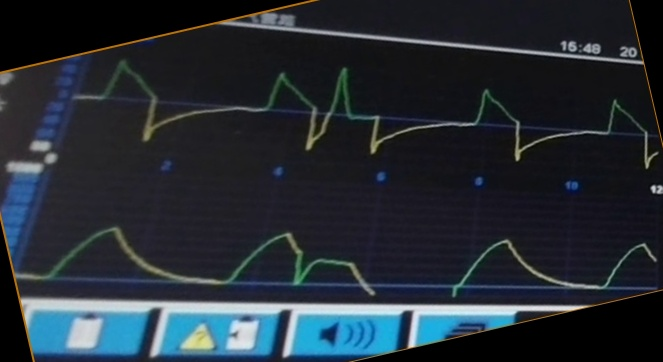Double_Triggering Flow: (83, 57, 593, 161)
Double_Triggering Volume: (46, 212, 645, 293)
